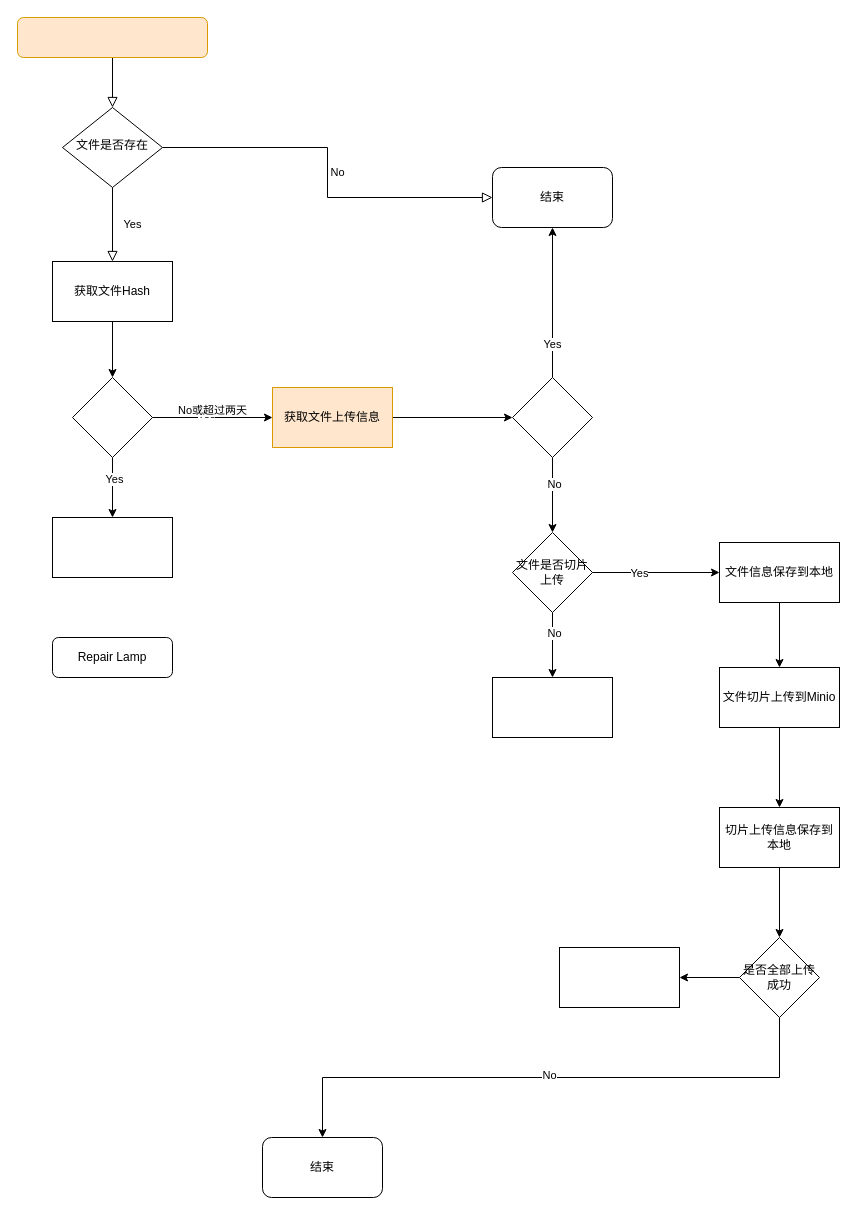
This 857x1215 diagram has some shape labels left out. The centre of each missing label's shape, as x and y in pixels:
文件: the point at 619,977
文件上传至minio: the point at 552,707
文件是否正在上传（其他用户）: the point at 552,417
文本在本地是否有上传记录 （切片上传）: the point at 112,417
获取备份文件列表 GetBackupFileDetailsForBackup: the point at 112,37
